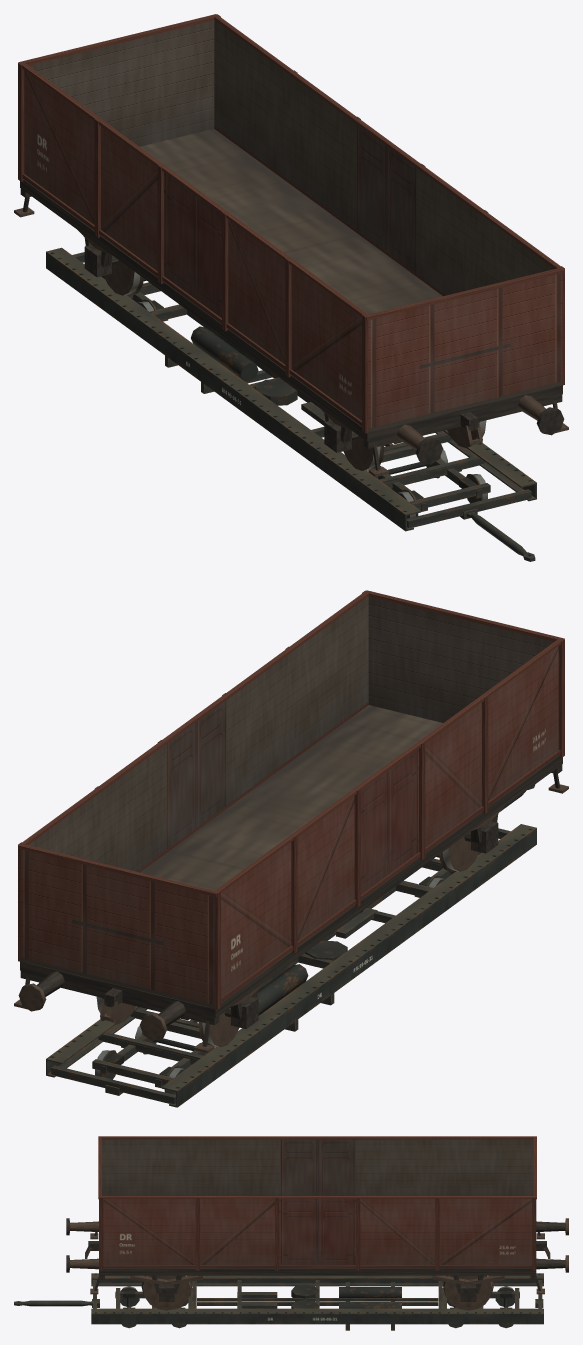
Rendered from nwe_rollwagen_omm.gltf.
3 views of the same model, one above another, from view 1: azimuth 30°, elevation 25°; view 2: azimuth 150°, elevation 25°; view 3: azimuth 270°, elevation 25° (orthographic). The views are drawn at different scales.
Visible parts, largest first — view 1: Omm_Klagenfurt, Rollwagen; view 2: Omm_Klagenfurt, Rollwagen; view 3: Omm_Klagenfurt, Rollwagen.
Part boxes in pixels (x1,y1,x2,y2): Omm_Klagenfurt: [14, 14, 568, 476]; Rollwagen: [46, 247, 536, 561]; Omm_Klagenfurt: [14, 590, 568, 1053]; Rollwagen: [46, 784, 536, 1107]; Omm_Klagenfurt: [66, 1136, 568, 1310]; Rollwagen: [14, 1273, 543, 1330].
Bounding box in the file's own units: 2.89 × 3.3 × 11.04.
Materials: 2 (2 with a texture image).
